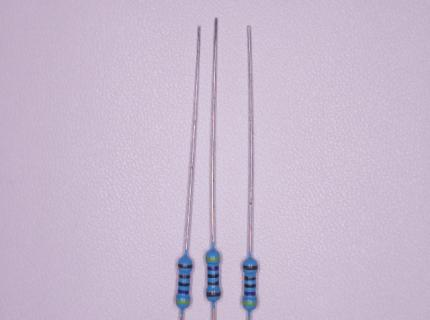Black band: (208, 274, 219, 278), (244, 284, 255, 288), (178, 283, 189, 286)
Brown band: (206, 292, 221, 297), (179, 264, 192, 269), (243, 266, 258, 270), (179, 274, 190, 278), (208, 281, 219, 285), (245, 277, 255, 281)
Violet band: (207, 266, 219, 270), (178, 291, 189, 294), (245, 292, 256, 295)
Yellow band: (176, 299, 190, 304), (243, 301, 257, 305), (206, 257, 220, 261)
